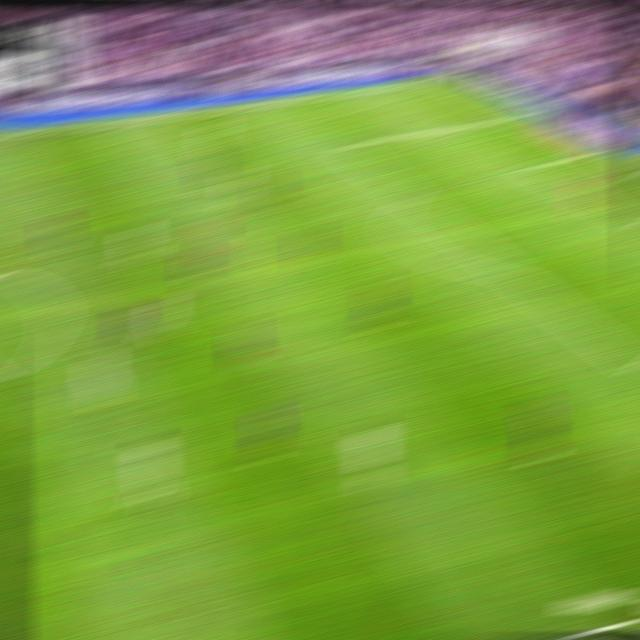bigarea_top_inner: (331, 139, 356, 152)
bigarea_top_outter: (504, 111, 527, 119)
bottom_arc_area_intersection: (499, 266, 526, 282)
corner: (430, 75, 454, 83)
smallarea_top_inner: (520, 162, 542, 169)
top_arc_area_intersection: (397, 189, 422, 201)
